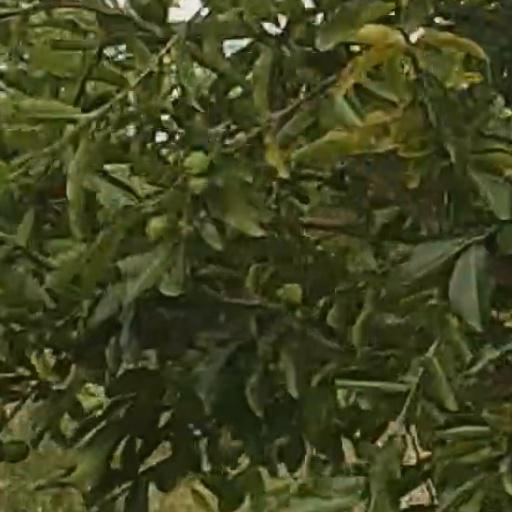acerola_verde: (4, 443, 28, 461)
